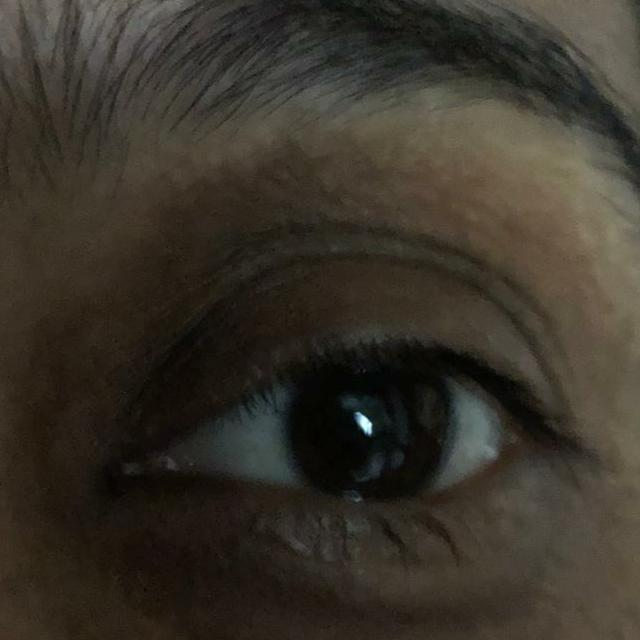eye: (173, 358, 514, 504)
iris: (288, 366, 456, 500)
